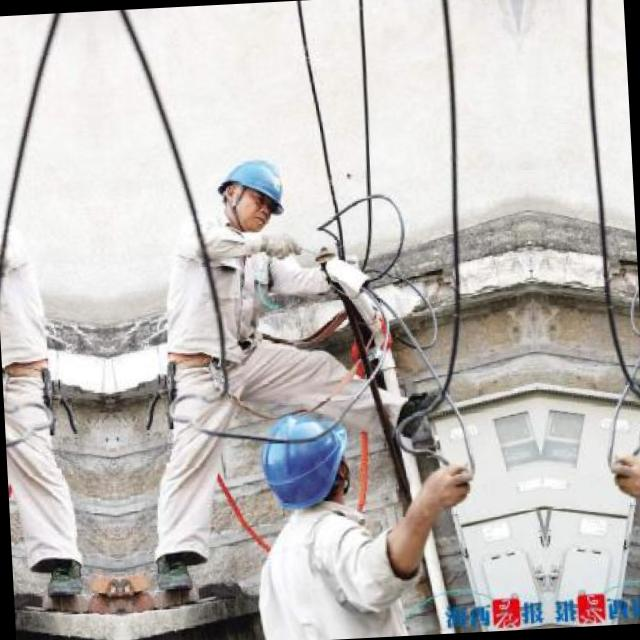helmet: (245, 404, 364, 516), (206, 143, 300, 239)
